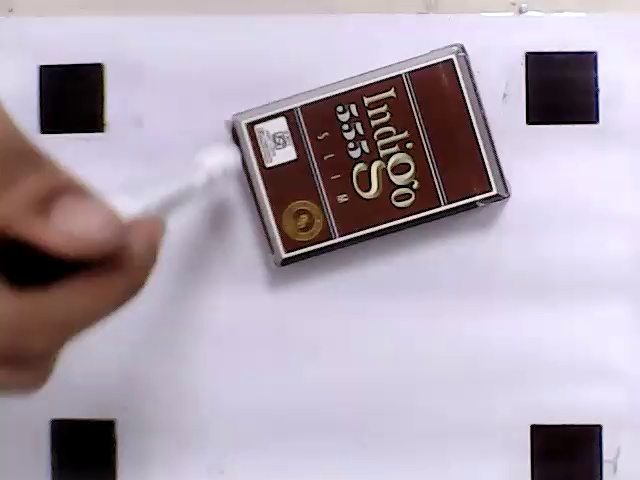BEX: (244, 55, 496, 256)
